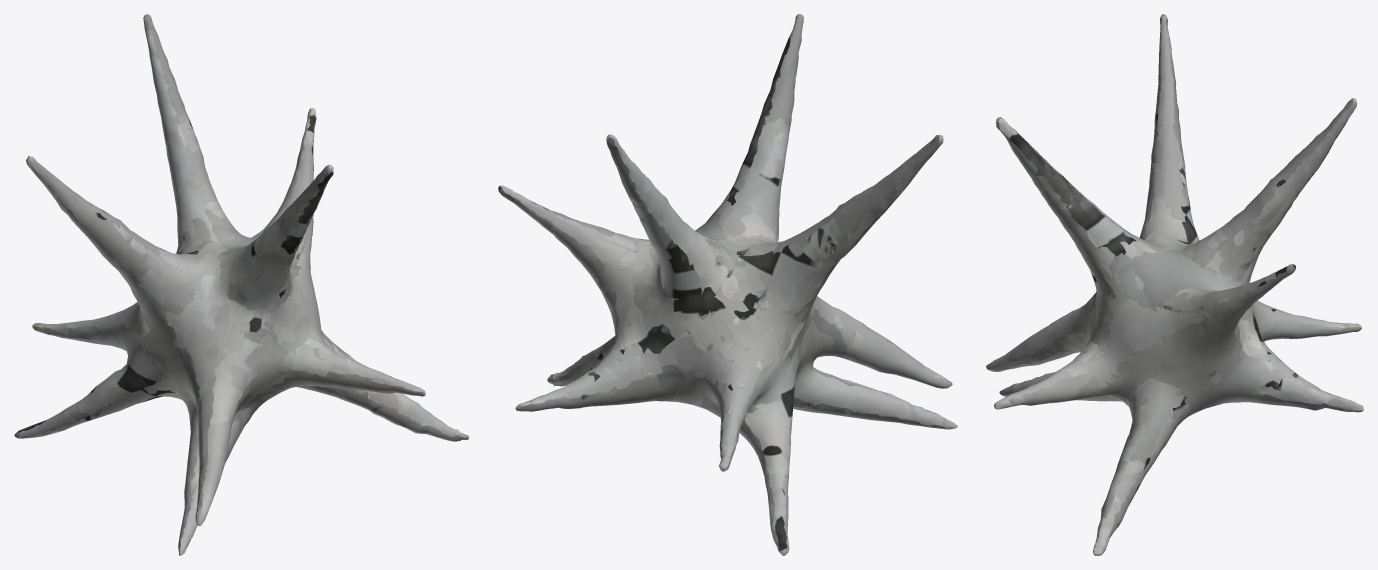
3 views of the same model, side by side, from view 1: azimuth 30°, elevation 25°; view 2: azimuth 150°, elevation 25°; view 3: azimuth 270°, elevation 25° (orthographic). The views are drawn at different scales.
Parts seen in each view (by area): view 1: world.004; view 2: world.004; view 3: world.004.
Part boxes in pixels (x1,y1,x2,y2): world.004: (14,14,469,555); world.004: (498,14,957,555); world.004: (986,14,1363,555).
Size of the model in its own units: 200 by 176 by 163.
